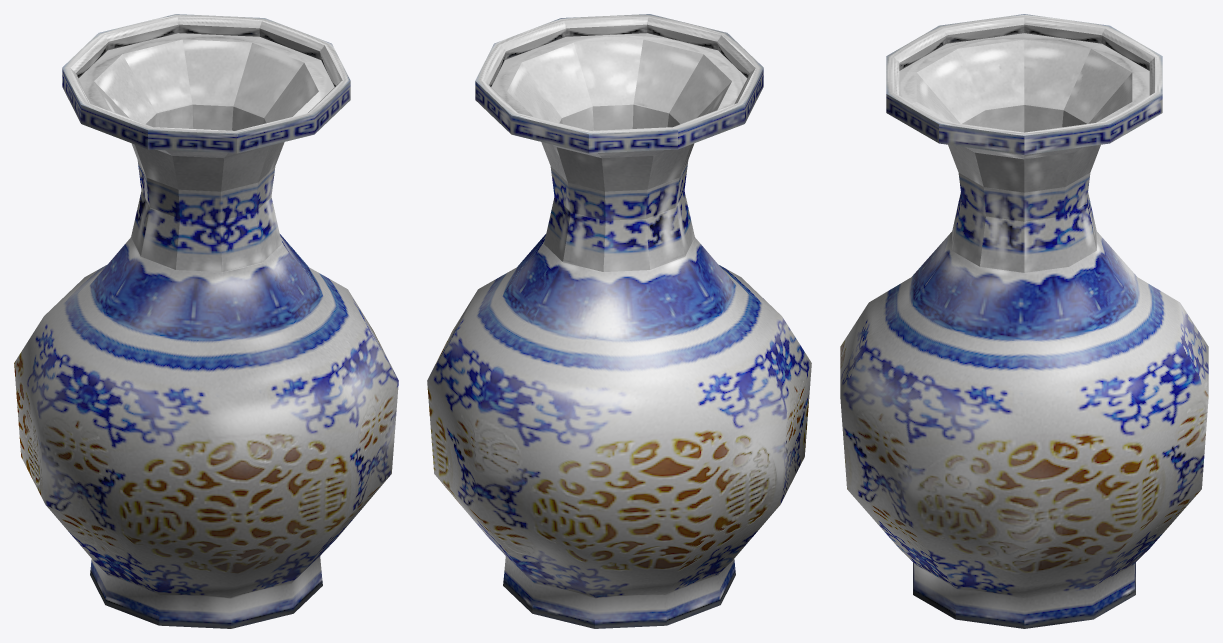
The model's file is vases.fbx.
The picture shows the model from 3 angles, left to right: view 1: azimuth 30°, elevation 25°; view 2: azimuth 150°, elevation 25°; view 3: azimuth 270°, elevation 25°; orthographic projection.
Visible parts, largest first — view 1: vases1:polySurface1; view 2: vases1:polySurface1; view 3: vases1:polySurface1.
Boxes of the visible parts, box(x1,y1,x2,y2) form: vases1:polySurface1: box(14, 14, 398, 628); vases1:polySurface1: box(427, 14, 811, 628); vases1:polySurface1: box(840, 14, 1208, 628).
Size of the model in its own units: 21.48 by 31.06 by 20.55.
Materials: 1 (1 with a texture image).
